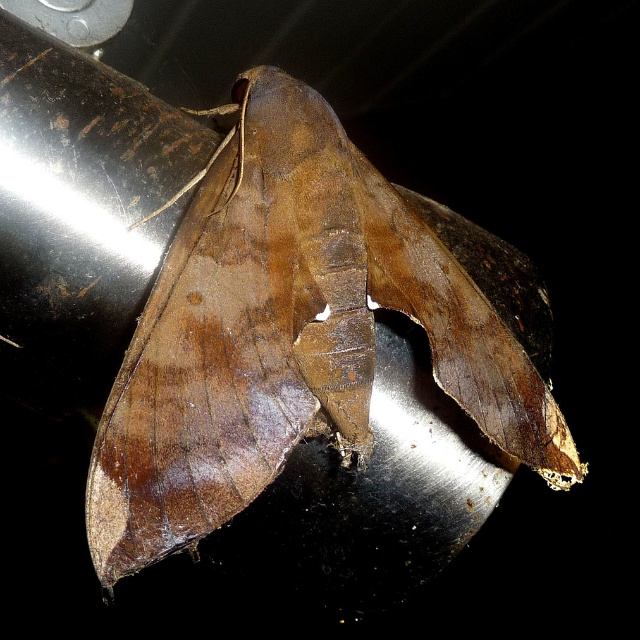Moths and butterflies: (79, 64, 589, 611)
